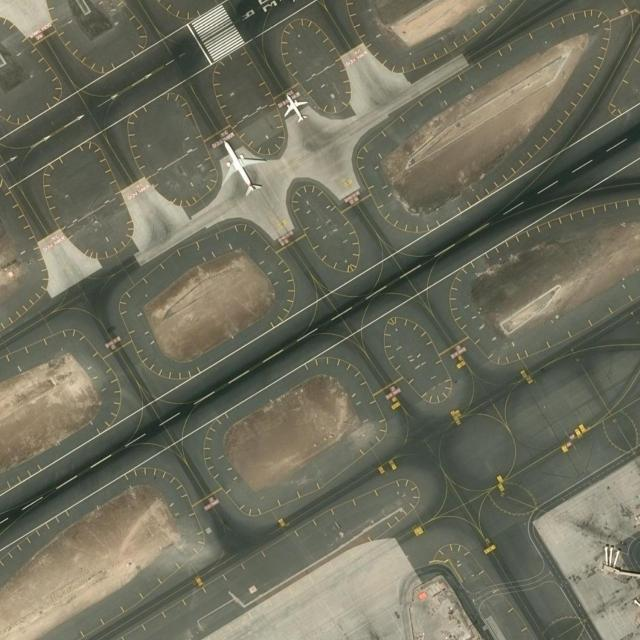Aircraft: (218, 135, 272, 199), (284, 87, 313, 123)
